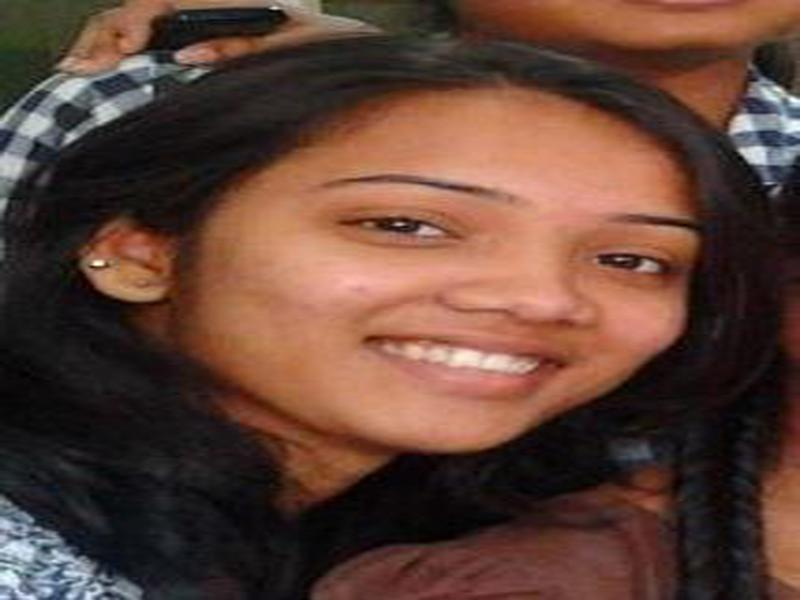without_mask: (185, 91, 700, 463)
